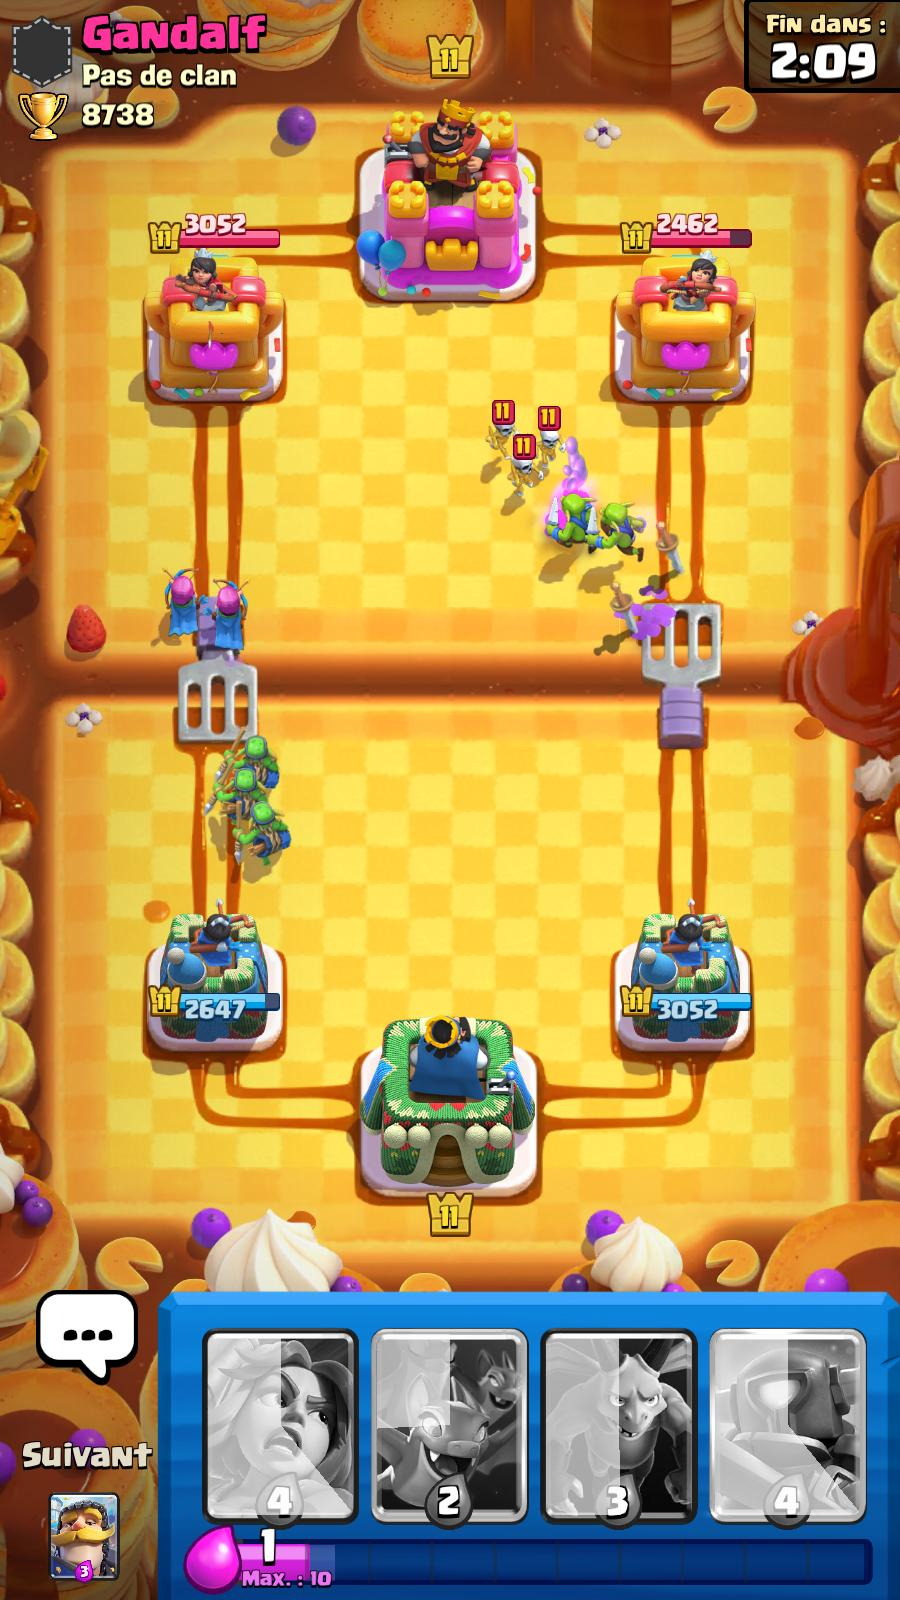archere: (204, 569, 251, 654), (159, 564, 208, 638)
gobelin: (588, 498, 651, 562), (545, 496, 604, 556)
gobelin_lances: (215, 727, 286, 807), (233, 797, 293, 873), (209, 763, 269, 832)
squelette: (503, 433, 545, 499), (484, 400, 521, 465), (532, 402, 566, 471)
